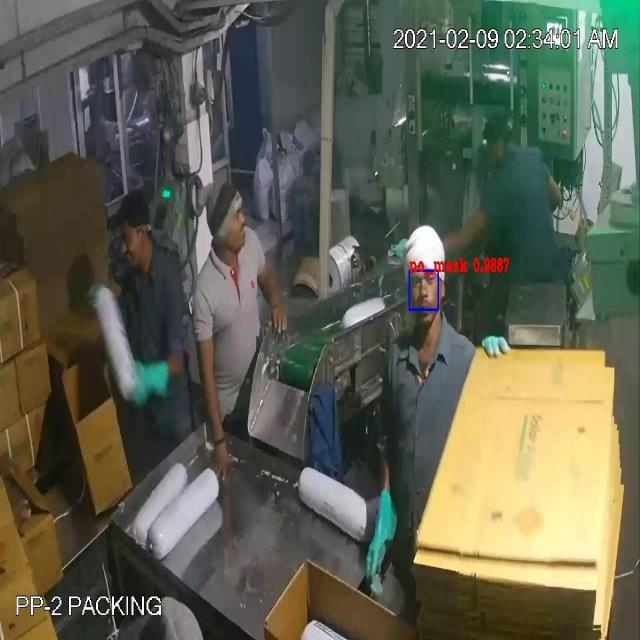Gloves: (36, 71, 380, 543)
